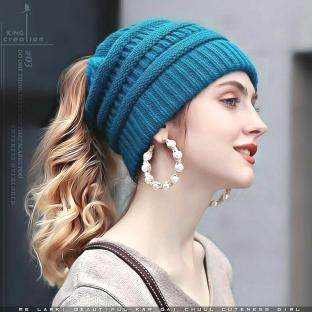Human: (25, 19, 267, 312)
